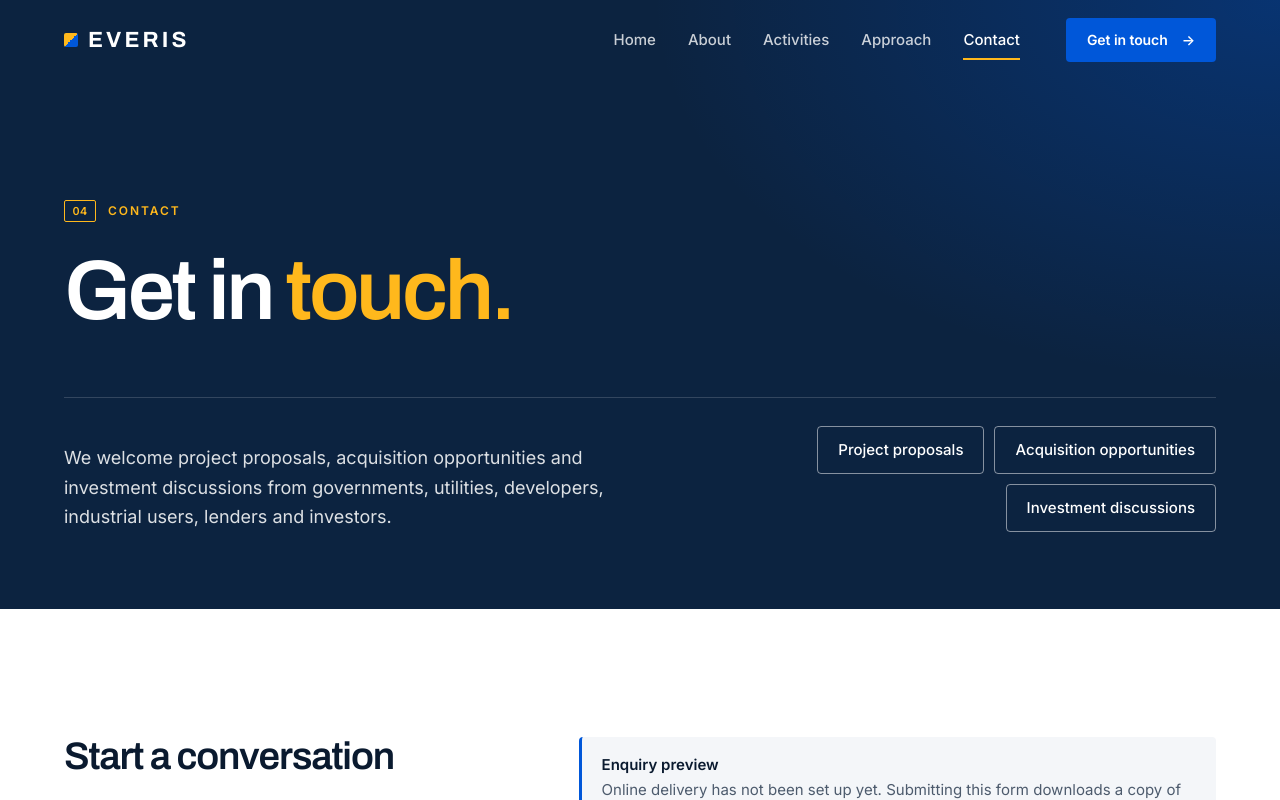
it: enquiry shortcuts › a contact topic preselects its type and focuses the form
Click the button "Investment discussions" at point(1111, 508), box [1006,484,1216,532]
(page scrolled)
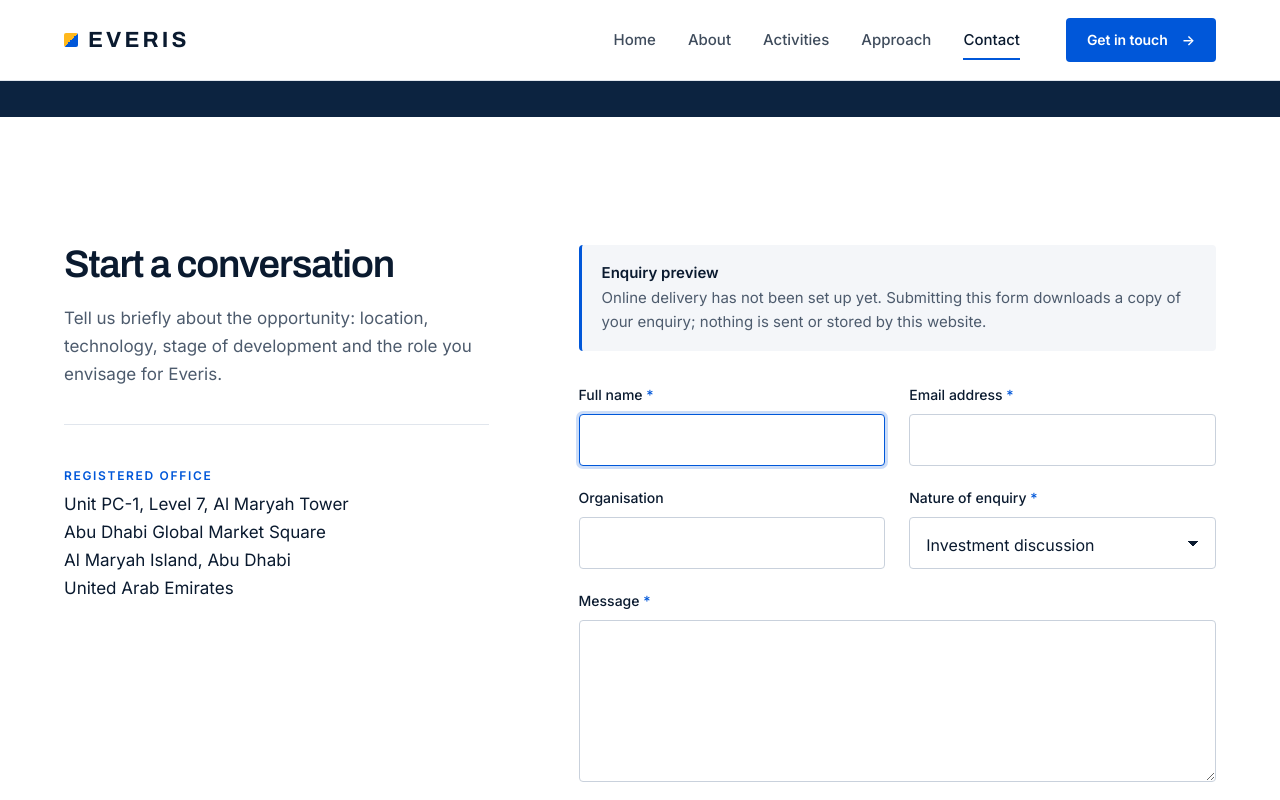
Now the dropdown labelled "Nature of enquiry *" shows "Investment discussion", box [909,517,1216,569]
